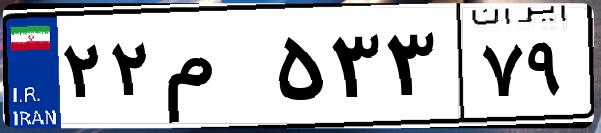2: (57, 26, 110, 100), (110, 28, 158, 98)
3: (385, 28, 445, 110), (330, 28, 385, 110)
5: (270, 28, 330, 110)
7: (475, 38, 525, 113)
9: (525, 38, 570, 115)
م: (158, 20, 270, 120)
